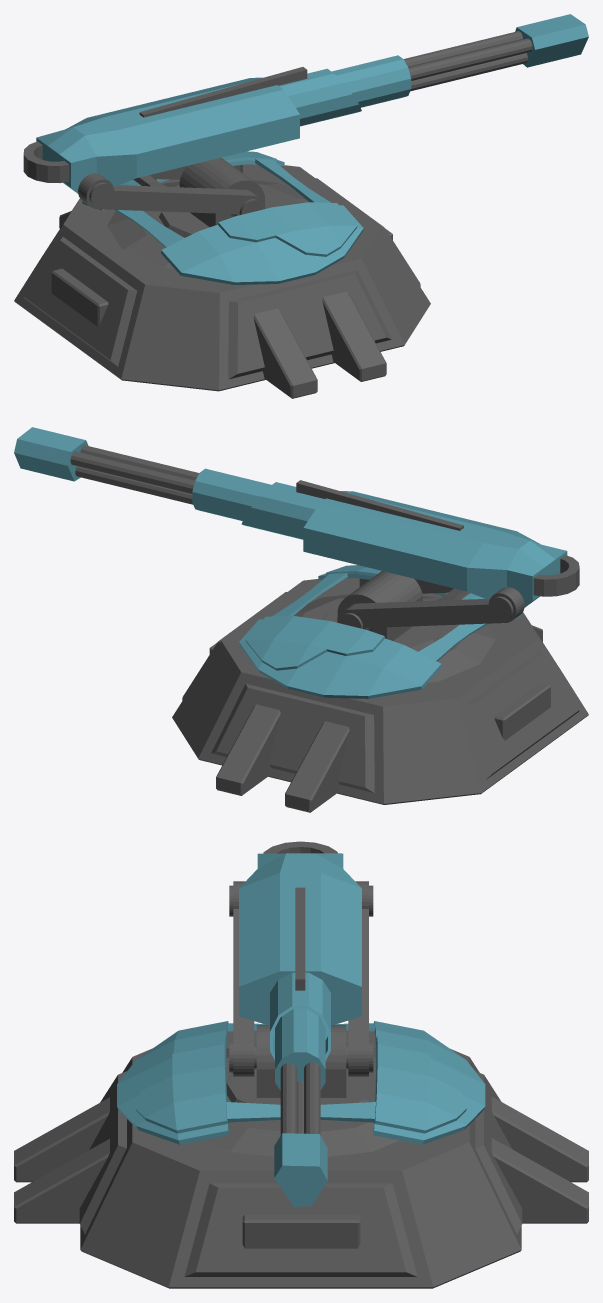
Rendered from Turret3Animation.fbx.
3 views of the same model, one above another, from view 1: azimuth 30°, elevation 25°; view 2: azimuth 150°, elevation 25°; view 3: azimuth 270°, elevation 25° (orthographic). The views are drawn at different scales.
Visible parts, largest first — view 1: Cube.001, Cube.025, Cube.024, Cube.009, Cube.027; view 2: Cube.001, Cube.025, Cube.024, Cube.009, Cube.027; view 3: Cube.001, Cube.024, Cube.025, Cube.009, Cube.027.
Part boxes in pixels (<box>): Cube.001: <box>14,164,430,398</box>; Cube.025: <box>23,55,411,193</box>; Cube.024: <box>82,151,363,284</box>; Cube.009: <box>403,14,588,91</box>; Cube.027: <box>78,166,264,217</box>; Cube.001: <box>172,578,588,812</box>; Cube.025: <box>192,468,579,607</box>; Cube.024: <box>239,565,520,698</box>; Cube.009: <box>14,427,199,504</box>; Cube.027: <box>338,579,524,630</box>; Cube.001: <box>14,1030,588,1288</box>; Cube.024: <box>117,1021,485,1156</box>; Cube.025: <box>239,841,361,1090</box>; Cube.009: <box>274,1062,327,1206</box>; Cube.027: <box>229,881,373,1076</box>.
Size of the model in its own units: 271 by 101 by 199.
